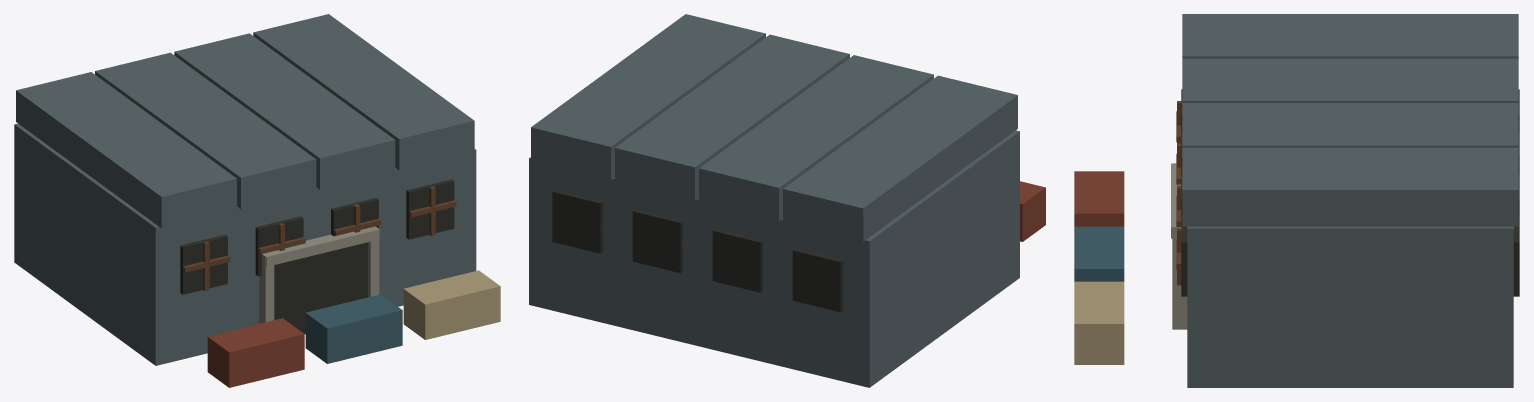
File: custom-imp-carfactory.glb
The picture shows the model from 3 angles, left to right: view 1: azimuth 30°, elevation 25°; view 2: azimuth 150°, elevation 25°; view 3: azimuth 270°, elevation 25°; orthographic projection. The views are drawn at different scales.
Visible parts, largest first — view 1: custom-imp-carfactory; view 2: custom-imp-carfactory; view 3: custom-imp-carfactory.
Part boxes in pixels (x1=…): custom-imp-carfactory: x1=14, y1=14, x2=500, y2=387; custom-imp-carfactory: x1=529, y1=14, x2=1045, y2=387; custom-imp-carfactory: x1=1074, y1=14, x2=1519, y2=387.
Bounding box in the file's own units: 0.9583 × 0.4848 × 1.
